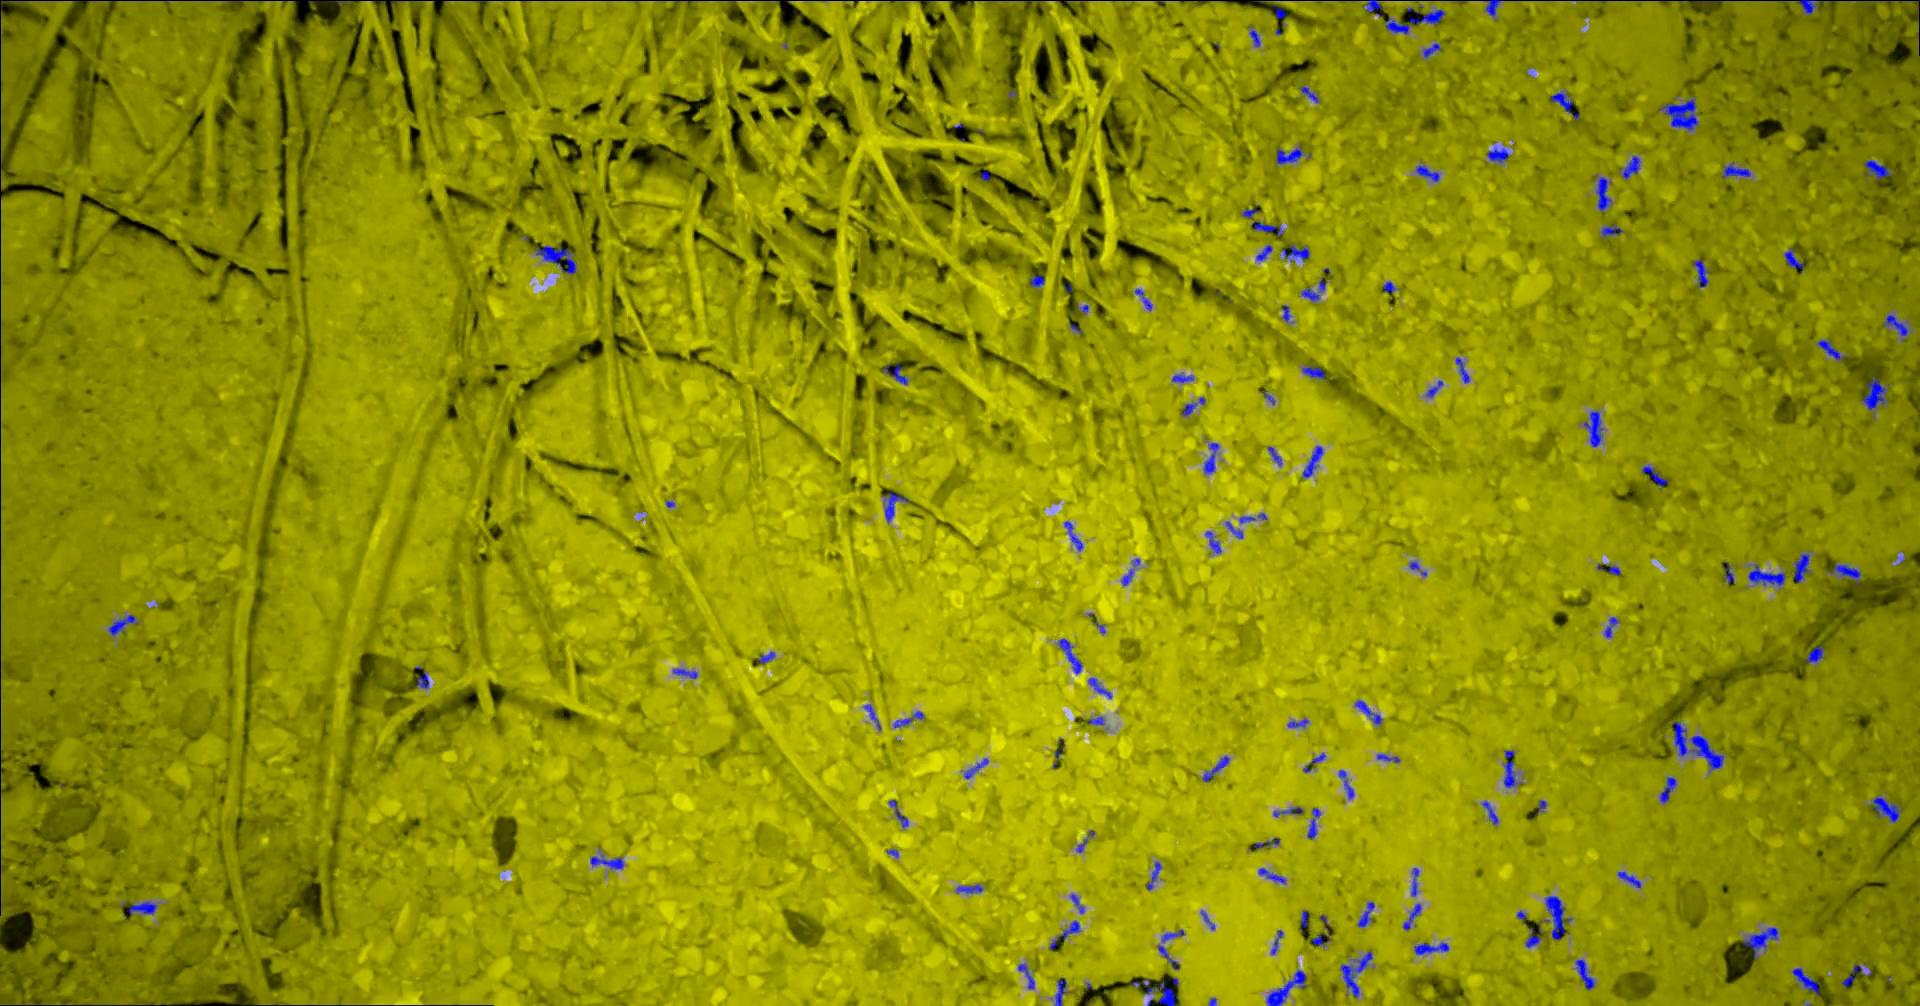ant: (1671, 721, 1723, 770), (1340, 951, 1371, 997), (1265, 969, 1305, 1005), (1658, 98, 1697, 130), (1544, 895, 1571, 939), (1131, 978, 1175, 1005), (1742, 927, 1778, 959), (535, 246, 577, 273), (1157, 929, 1183, 969), (1860, 375, 1886, 410), (1049, 920, 1079, 949), (1057, 638, 1081, 673), (881, 492, 909, 522), (1747, 564, 1785, 586), (1550, 90, 1578, 119), (1790, 967, 1818, 995), (1870, 796, 1900, 822), (1829, 563, 1862, 584), (1203, 754, 1229, 781), (1354, 699, 1382, 724), (1410, 4, 1444, 24), (1883, 314, 1909, 340), (1503, 749, 1521, 788), (1302, 445, 1322, 478), (107, 614, 137, 635), (1583, 412, 1603, 446), (1797, 0, 1837, 15), (1575, 959, 1595, 989), (1300, 277, 1324, 301), (1063, 521, 1082, 551), (1641, 465, 1667, 486), (888, 799, 908, 827), (1595, 177, 1611, 211), (963, 757, 988, 779), (123, 901, 156, 917), (1863, 159, 1890, 179), (1783, 246, 1803, 273), (1817, 339, 1844, 359), (1087, 677, 1111, 699), (883, 363, 908, 384), (1402, 903, 1421, 930), (1203, 442, 1219, 473), (893, 710, 923, 727), (1275, 146, 1303, 164), (1251, 221, 1283, 236), (1793, 553, 1810, 582), (589, 855, 623, 869), (1658, 776, 1676, 803), (1302, 752, 1324, 772), (1841, 964, 1862, 987), (1281, 244, 1309, 260), (1693, 259, 1709, 287), (1620, 155, 1639, 179), (1181, 396, 1205, 415), (1721, 161, 1750, 177), (1307, 807, 1321, 838), (863, 704, 880, 730), (1357, 901, 1374, 927), (1017, 963, 1034, 989), (1145, 861, 1161, 889), (1384, 17, 1410, 33), (1338, 768, 1352, 798), (1204, 530, 1222, 553), (1258, 868, 1285, 883), (1413, 942, 1448, 954), (1455, 357, 1469, 384), (1053, 978, 1067, 1005), (1415, 165, 1439, 180), (1482, 800, 1497, 824), (1617, 871, 1641, 887), (1134, 288, 1150, 310), (1486, 147, 1509, 163), (1484, 0, 1502, 19), (1425, 380, 1443, 398), (1804, 645, 1823, 662), (1603, 616, 1618, 636), (1525, 927, 1540, 948), (1596, 563, 1620, 575), (1721, 561, 1735, 583), (1225, 521, 1242, 539), (1422, 42, 1441, 57), (1299, 86, 1318, 102), (1302, 366, 1324, 379), (1070, 893, 1084, 913), (1600, 224, 1622, 236), (1255, 244, 1271, 260), (1267, 446, 1281, 465), (1272, 807, 1302, 815), (672, 668, 697, 678), (1253, 837, 1279, 847), (1366, 0, 1382, 17), (1410, 868, 1418, 895), (1310, 934, 1331, 945), (1272, 3, 1286, 19), (415, 671, 428, 688), (956, 884, 982, 893), (1171, 372, 1192, 382), (1250, 25, 1260, 46), (757, 652, 775, 663), (1377, 753, 1399, 762), (1029, 274, 1044, 287), (1121, 569, 1133, 586), (1288, 718, 1308, 727), (1382, 281, 1396, 293), (1299, 909, 1307, 931), (1087, 716, 1103, 725), (1855, 0, 1919, 1)
